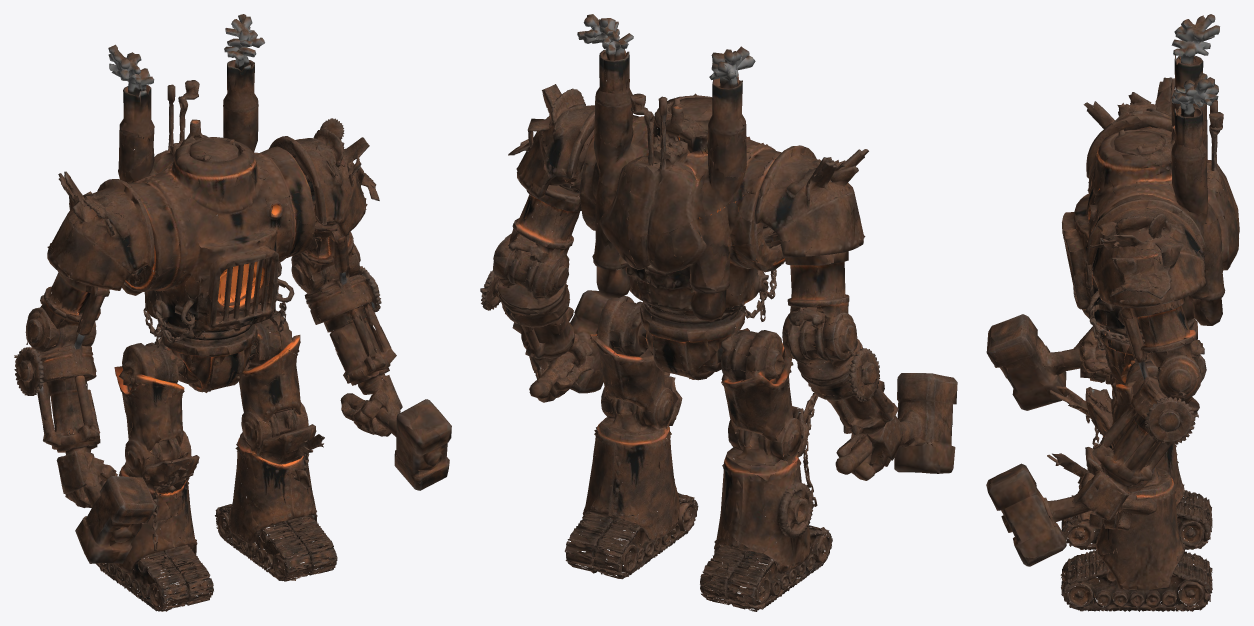
Rendered from colossus.glb.
3 renders of one model, left to right at view 1: azimuth 30°, elevation 25°; view 2: azimuth 150°, elevation 25°; view 3: azimuth 270°, elevation 25°, orthographic. The views are drawn at different scales.
Visible parts, largest first — view 1: MeshyFit; view 2: MeshyFit; view 3: MeshyFit.
Boxes of the visible parts, x1=… form: MeshyFit: x1=14, y1=14, x2=451, y2=611; MeshyFit: x1=480, y1=14, x2=957, y2=611; MeshyFit: x1=986, y1=14, x2=1239, y2=611.
Size of the model in its own units: 6.58 by 9 by 3.94.
1 material, 1 textured.
